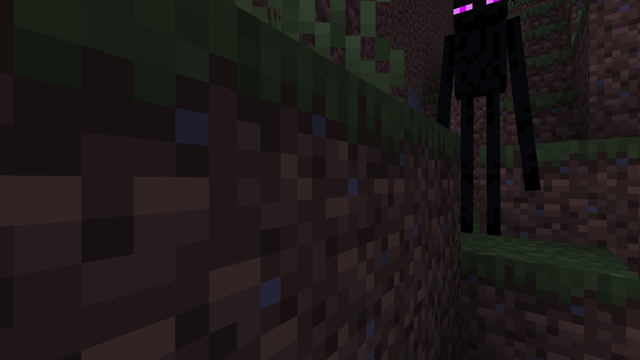endermens: (445, 2, 513, 240)
